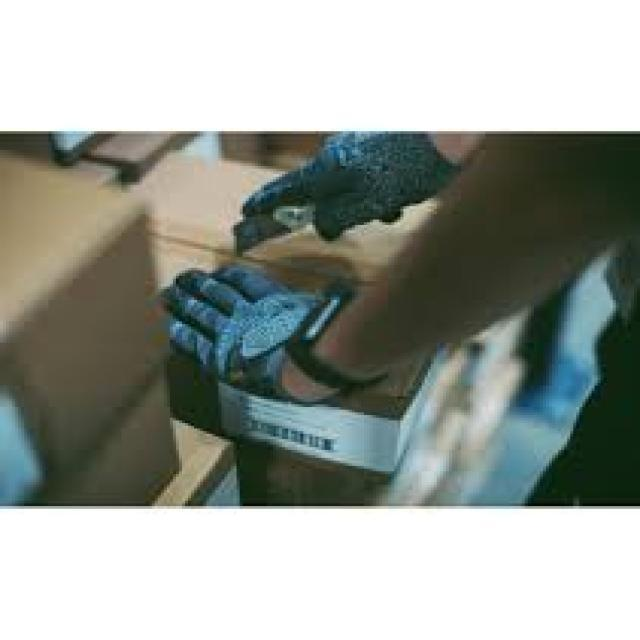estilete: (234, 205, 311, 253)
